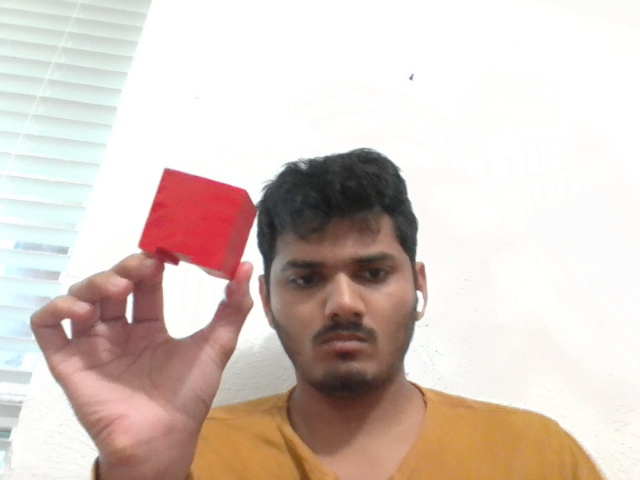RedBlock: (140, 167, 256, 279)
